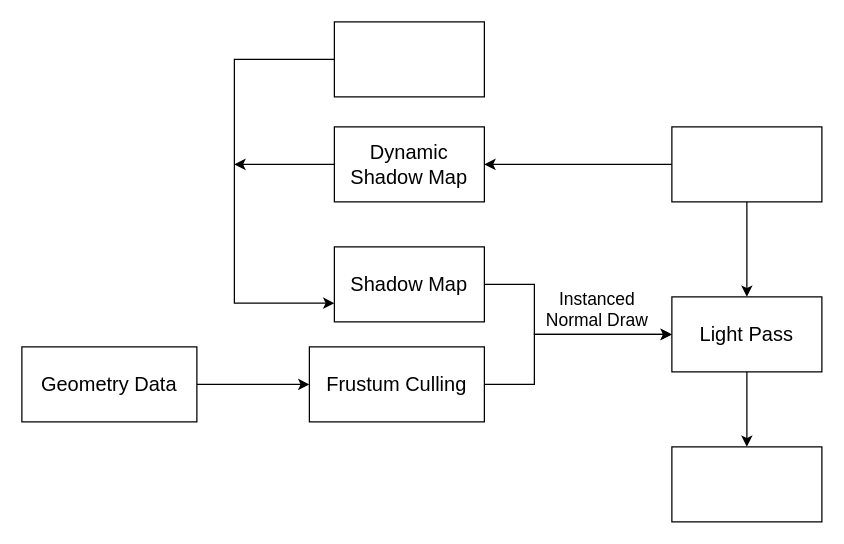
Some shapes in this 844 by 544 pixel diagram are drawn without their labels. The shapes that lost their labels are listed below. From the top down, each one's centre as x and y in pixels, then its label:
At (x=408, y=59): "Static Shadow Map (Prebaked)".
At (x=746, y=164): "Shadow Pass".
At (x=746, y=484): "Forward Rendering".
